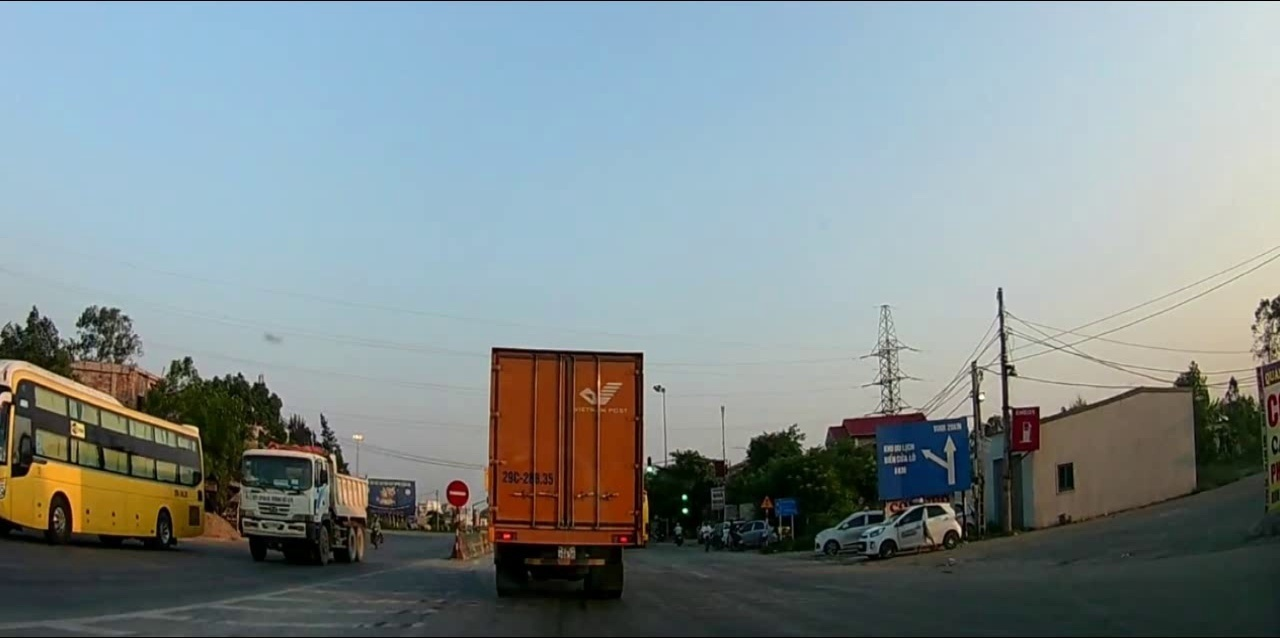Bien khac: (874, 417, 975, 500), (760, 493, 773, 508)
Cam di nguoc chieu: (446, 479, 467, 506)
